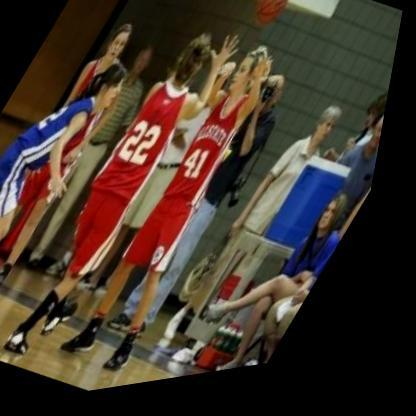basketball: (244, 0, 300, 43)
